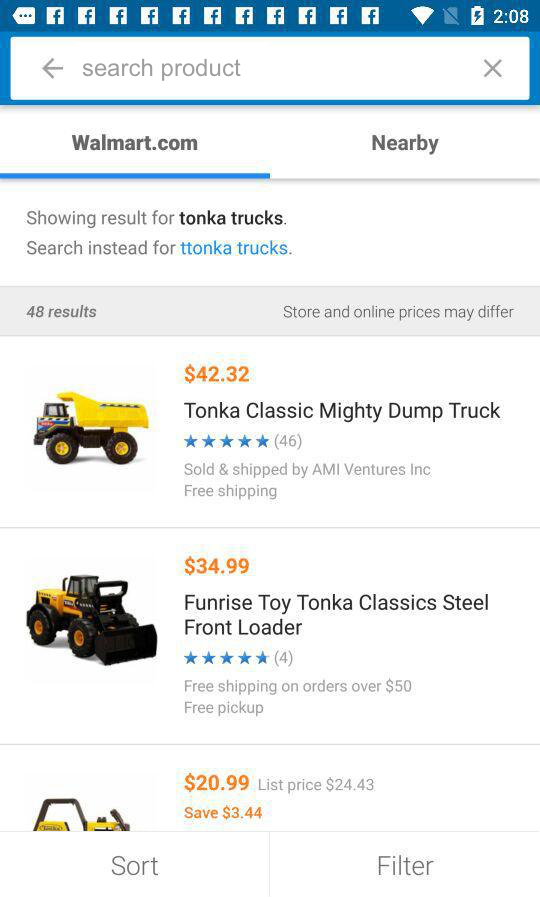EditText: (11, 37, 530, 101)
Icon: (183, 650, 271, 665), (184, 434, 271, 449), (42, 58, 65, 80), (483, 59, 503, 79)
Image: (26, 574, 159, 668), (33, 391, 151, 467), (33, 798, 132, 832)
Multi_Tab: (1, 106, 540, 180)
Text: (185, 592, 489, 637), (184, 401, 501, 425), (27, 210, 287, 229), (184, 462, 432, 480), (283, 304, 515, 323), (185, 678, 412, 697), (27, 240, 293, 256), (83, 59, 242, 82), (72, 134, 199, 152), (258, 777, 375, 795), (185, 483, 278, 501), (371, 134, 439, 156), (184, 772, 250, 794), (185, 700, 265, 718), (185, 555, 250, 577), (184, 364, 251, 385), (184, 804, 263, 821), (26, 305, 98, 319), (275, 433, 303, 450), (275, 649, 294, 668)
TextButton: (270, 831, 540, 897), (1, 831, 270, 897)
Toolbar: (1, 33, 540, 106)
UpperTaskBar: (1, 1, 540, 33)
